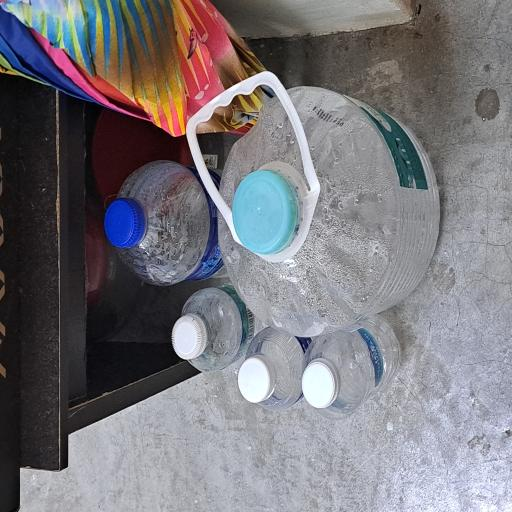plastic bottle: (129, 289, 319, 512), (170, 154, 264, 304), (69, 402, 149, 512), (104, 242, 170, 356), (74, 326, 141, 420)
plastic bottle cap: (192, 309, 256, 396), (198, 138, 236, 192), (82, 316, 118, 368), (77, 403, 116, 451), (115, 228, 149, 276)
